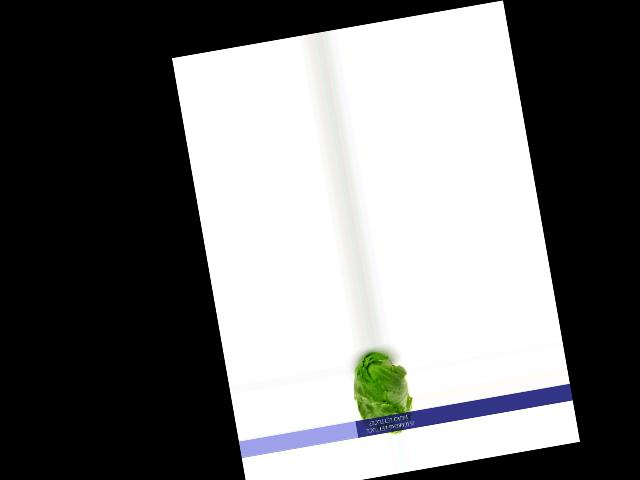lettuce: (349, 343, 417, 439)
